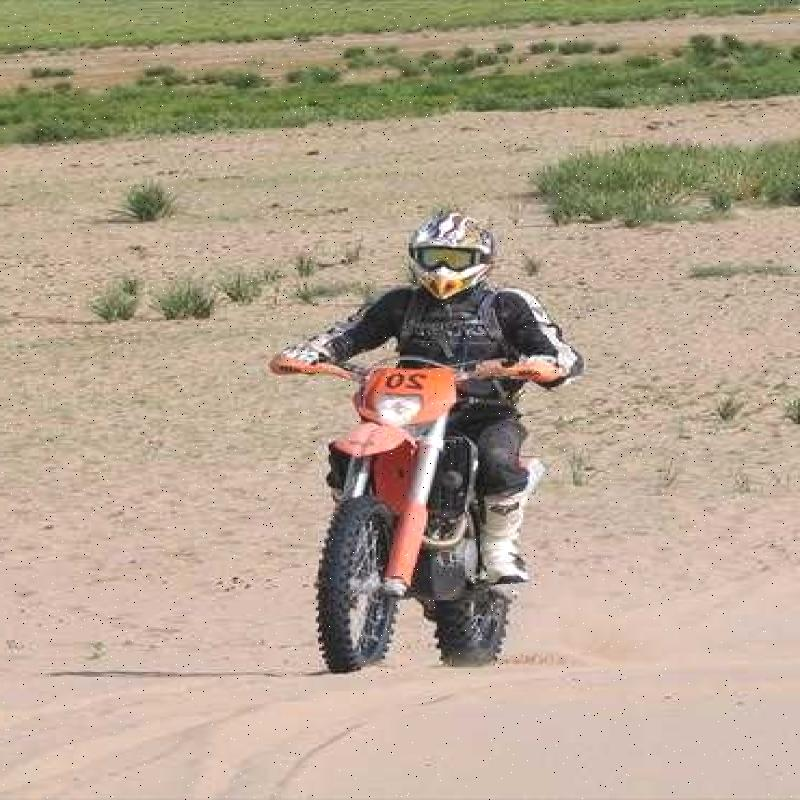bike: (265, 330, 583, 693)
